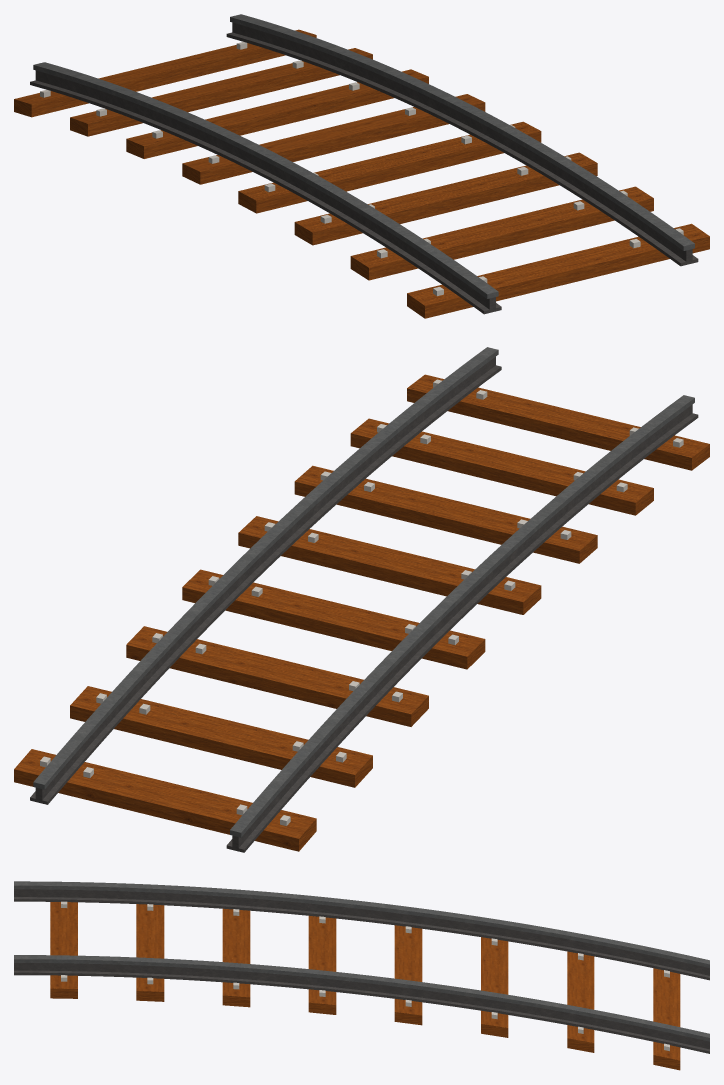
Rendered from rail_slope_exit.gltf.
3 views of the same model, one above another, from view 1: azimuth 30°, elevation 25°; view 2: azimuth 150°, elevation 25°; view 3: azimuth 270°, elevation 25° (orthographic). The views are drawn at different scales.
Bounding box in the file's own units: 2.9 × 1.23 × 8.
4 materials, 3 textured.
